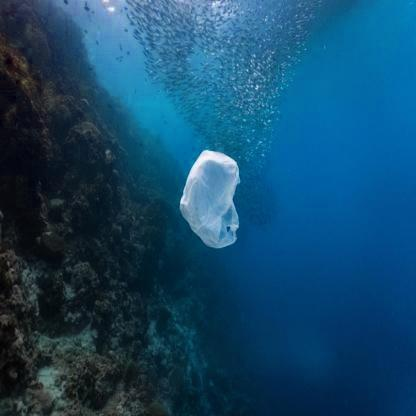pbag: (178, 148, 242, 251)
